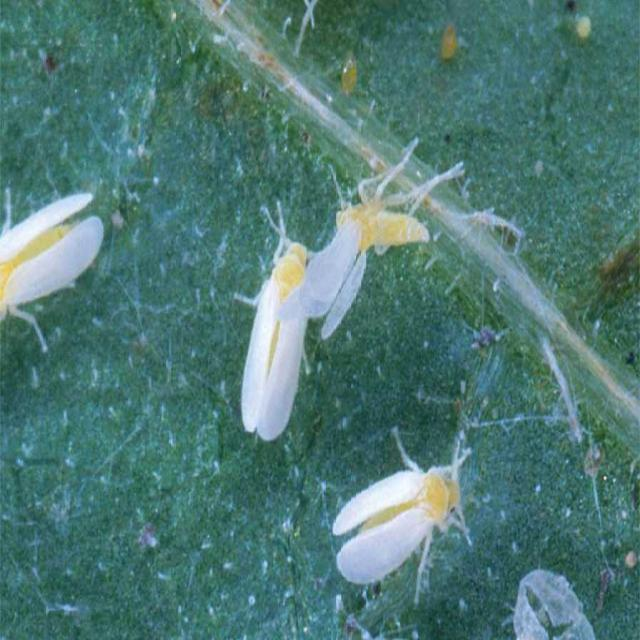whiteflies: (226, 223, 328, 467), (301, 146, 444, 310), (336, 444, 469, 596), (0, 189, 118, 347)
